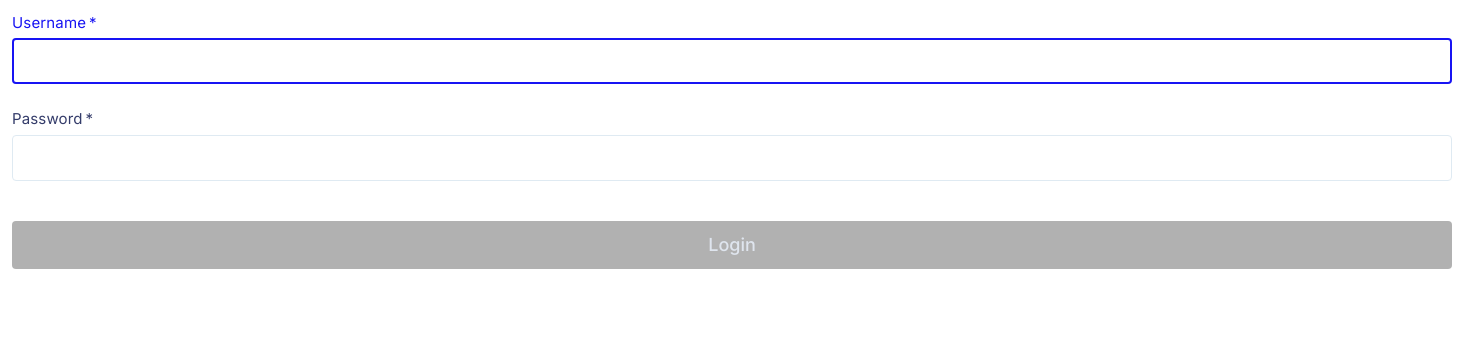
Test case: login flow › shows an error for a wrong password
In the field labelled "Username *": {"x": 732, "y": 61} [12,38,1452,84], type "devadmin"
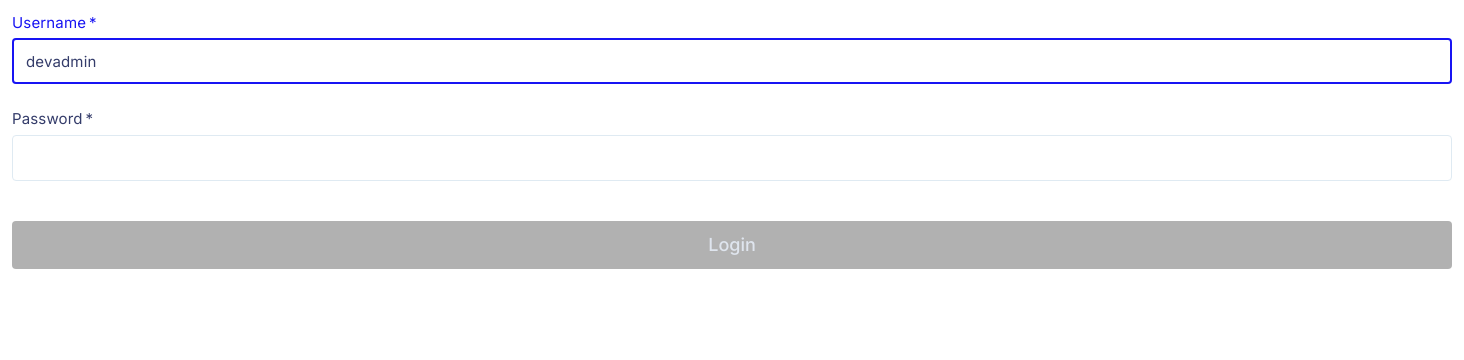
In the password field labelled "Password *": {"x": 713, "y": 158} [12,135,1414,181], type "wrong"
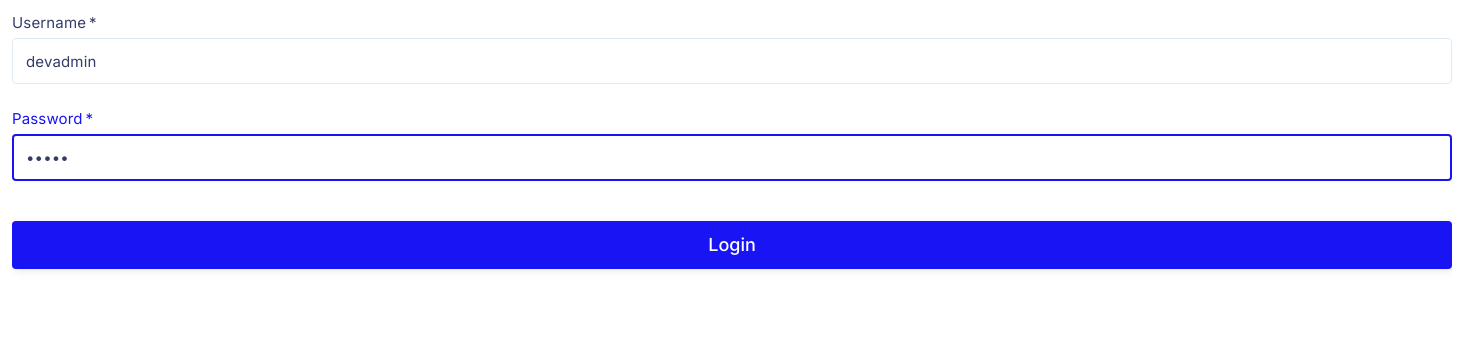
Click the button "Login": {"x": 732, "y": 245} [12,221,1452,269]
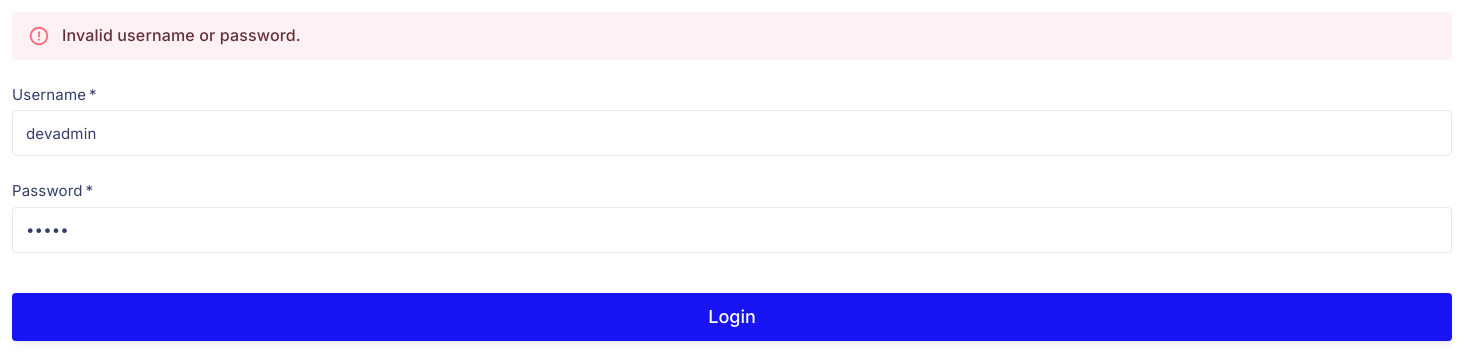
Expected: the text "Invalid username or password." is shown, [62,25,301,45]
